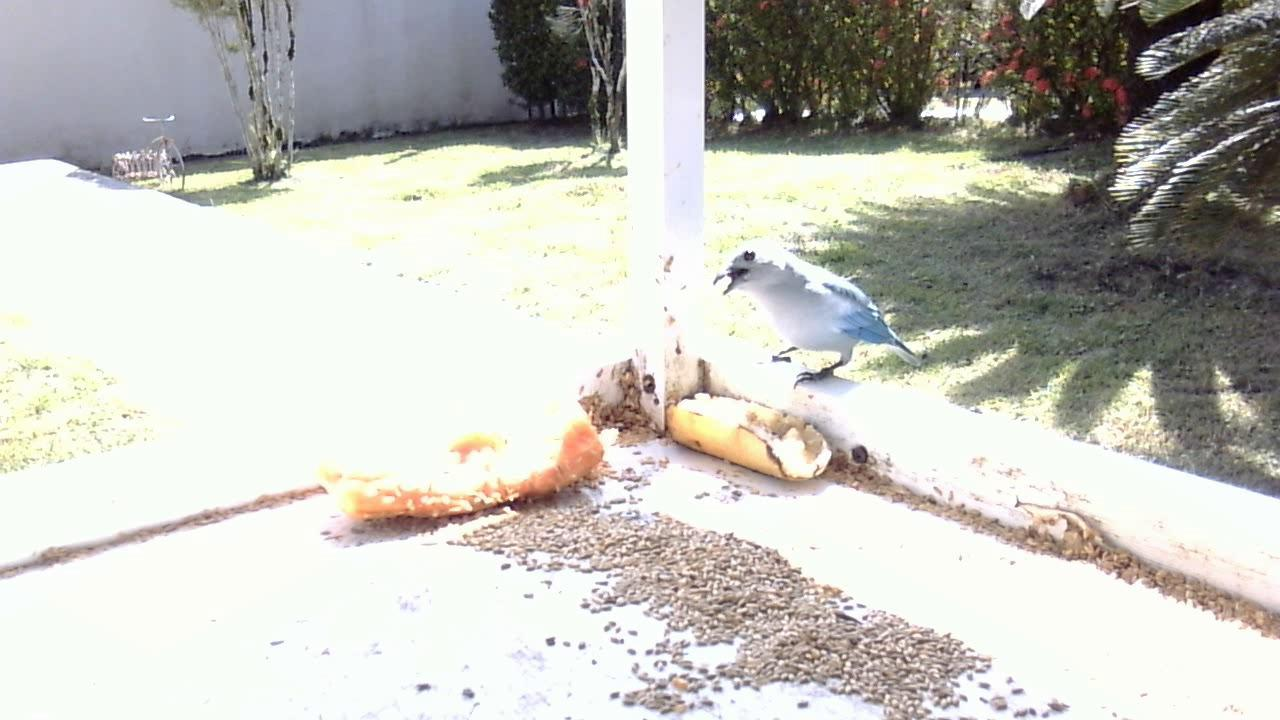sanhaco_da_amazonia: (709, 239, 930, 398)
